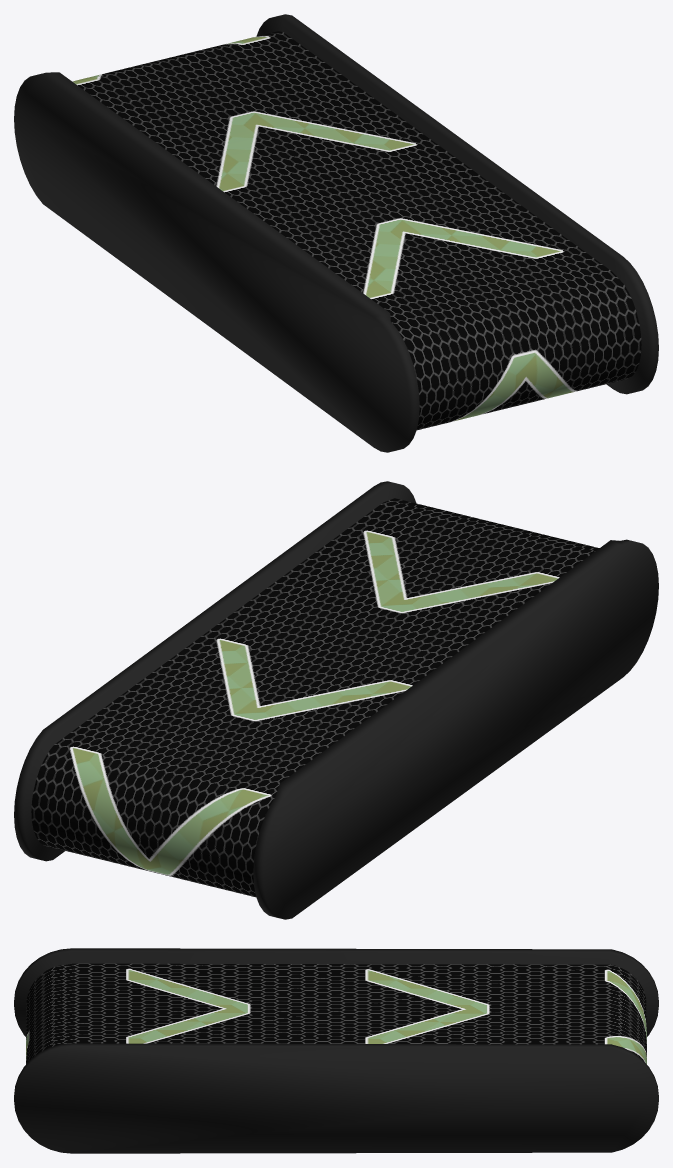
Rendered from conveyorbelt.fbx.
3 renders of one model, top to bottom at view 1: azimuth 30°, elevation 25°; view 2: azimuth 150°, elevation 25°; view 3: azimuth 270°, elevation 25°, orthographic. The views are drawn at different scales.
Visible parts, largest first — view 1: TreadMill, Main; view 2: TreadMill, Main; view 3: Main, TreadMill.
Part boxes in pixels (x1,y1,x2,y2): TreadMill: [72, 31, 641, 430]; Main: [14, 14, 658, 452]; TreadMill: [31, 498, 599, 897]; Main: [14, 481, 658, 919]; Main: [14, 948, 658, 1153]; TreadMill: [26, 963, 646, 1064].
Bounding box in the file's own units: 400 × 203 × 1100.
